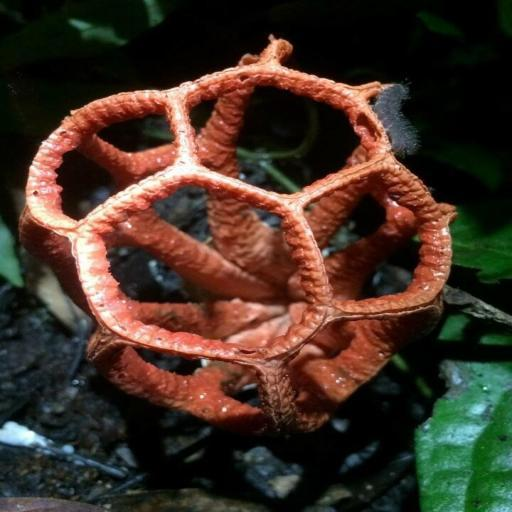mushroom: (19, 33, 476, 440)
